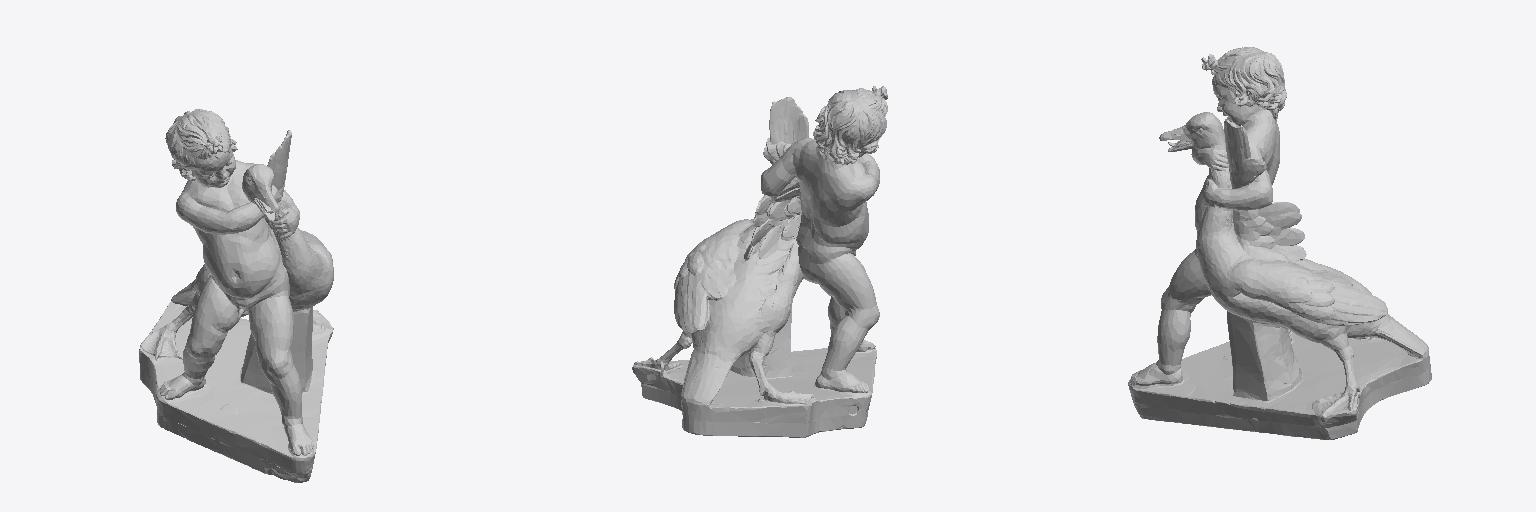
Rendered from eisbar.obj.
3 renders of one model, left to right at view 1: azimuth 30°, elevation 25°; view 2: azimuth 150°, elevation 25°; view 3: azimuth 270°, elevation 25°, orthographic.
Visible parts, largest first — view 1: Child_with_goose; view 2: Child_with_goose; view 3: Child_with_goose.
Boxes of the visible parts, <box> form: Child_with_goose: <box>139,109,333,482</box>; Child_with_goose: <box>632,86,887,437</box>; Child_with_goose: <box>1128,47,1431,439</box>.
Bounding box in the file's own units: 3.23 × 5.25 × 4.24.